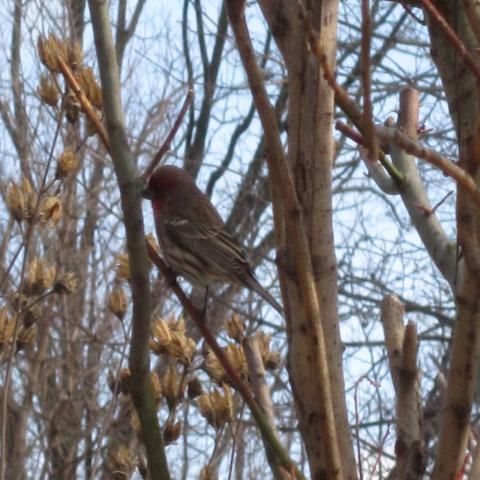bird: (139, 162, 285, 320)
